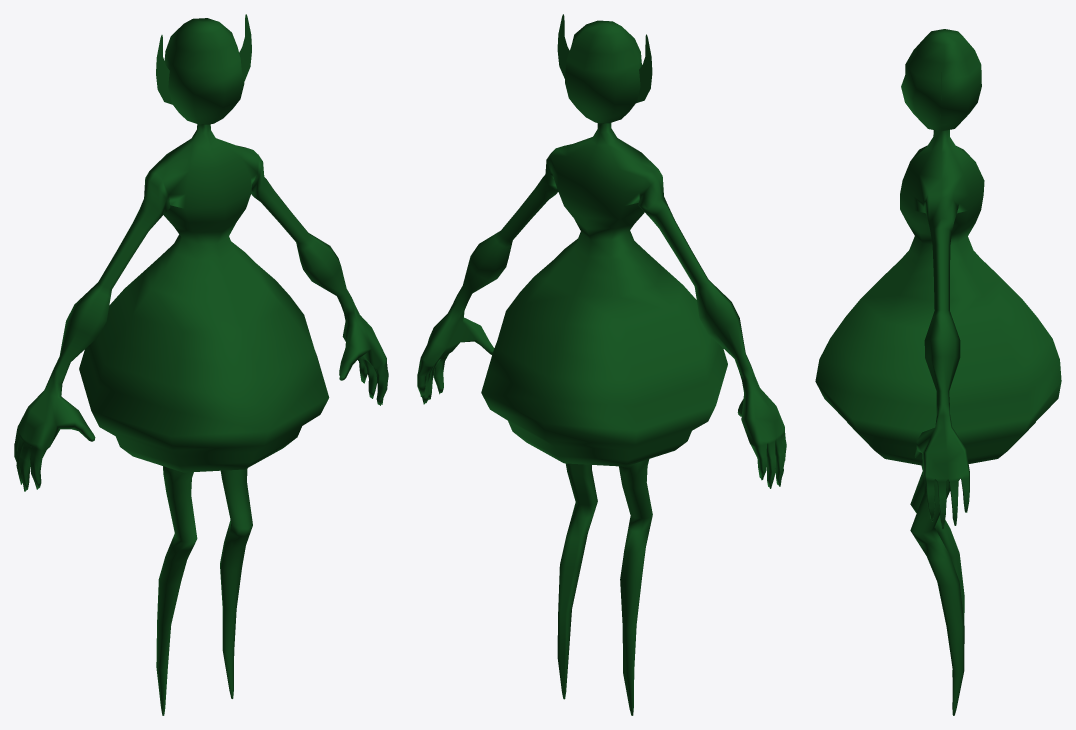
Rendered from PluviaNPC.fbx.
The picture shows the model from 3 angles, left to right: view 1: azimuth 30°, elevation 25°; view 2: azimuth 150°, elevation 25°; view 3: azimuth 270°, elevation 25°; orthographic projection. The views are drawn at different scales.
Parts seen in each view (by area): view 1: pluvia_model; view 2: pluvia_model; view 3: pluvia_model.
Part boxes in pixels (left/top/right/bottom): pluvia_model: left=14, top=14, right=388, bottom=715; pluvia_model: left=417, top=14, right=786, bottom=715; pluvia_model: left=815, top=29, right=1061, bottom=715.
Bounding box in the file's own units: 25.32 × 45.62 × 15.28.
